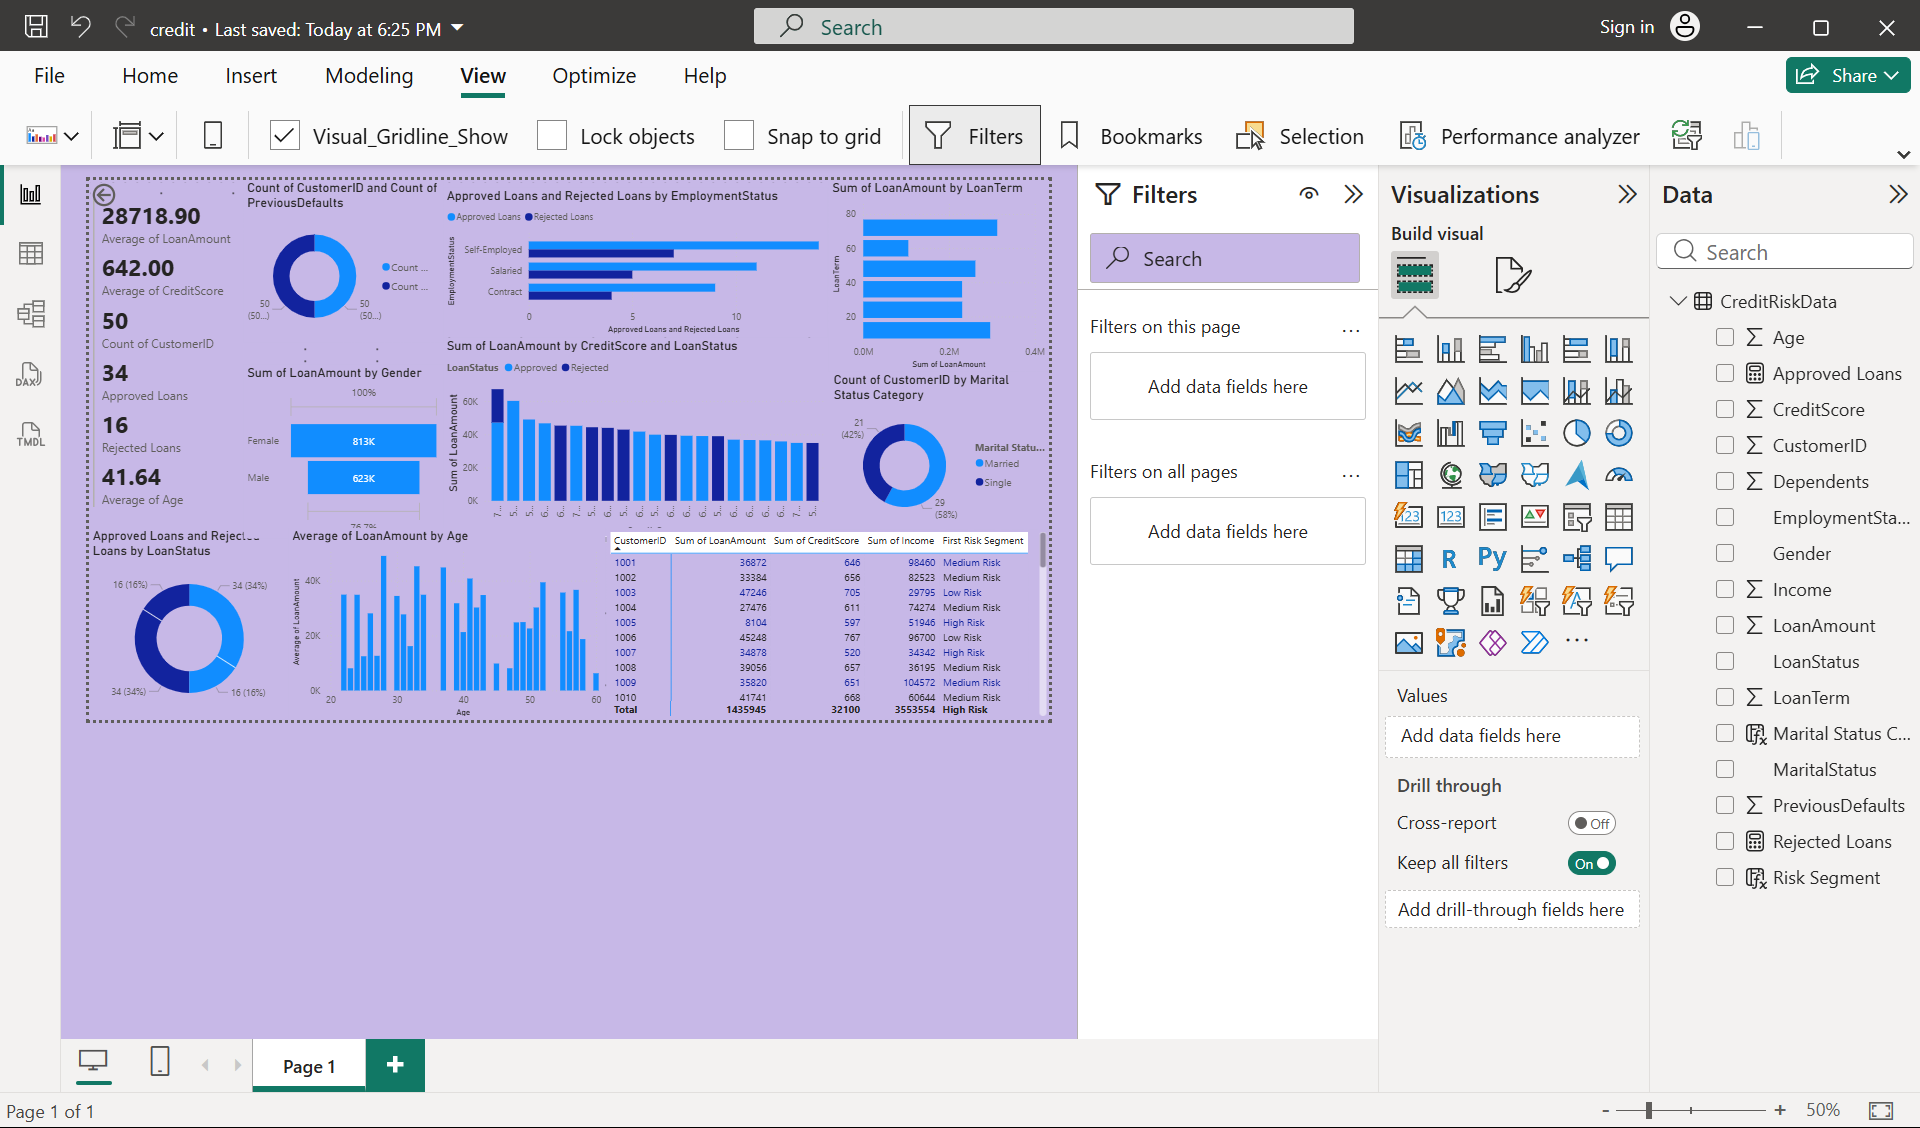

This screenshot's page, from the dashboard's own definition file:
{"tool":"powerbi","page":{"name":"Page 1","canvas":[1280,720],"ordinal":0},"visuals":[{"type":"multiRowCard","fields":{"Values":["Avg(CreditRiskData.LoanAmount)","Avg(CreditRiskData.CreditScore)","CountNonNull(CreditRiskData.CustomerID)","CreditRiskData.Approved Loans","CreditRiskData.Rejected Loans","Avg(CreditRiskData.Age)"]},"box":[0,19.2,205.4,432],"z":3},{"type":"actionButton","box":[0,0,100,40],"z":4},{"type":"donutChart","fields":{"Category":["CreditRiskData.LoanStatus"],"Y":["CreditRiskData.Approved Loans","CreditRiskData.Rejected Loans"]},"box":[0,464.6,266.9,255.4],"z":5},{"type":"clusteredBarChart","fields":{"Category":["CreditRiskData.EmploymentStatus"],"Series":["CreditRiskData.LoanStatus"],"Y":["CountNonNull(CreditRiskData.LoanStatus)"]},"box":[821.8,0,458.9,199.7],"z":6},{"type":"columnChart","fields":{"Category":["CreditRiskData.CreditScore"],"Y":["Sum(CreditRiskData.LoanAmount)"],"Series":["CreditRiskData.LoanStatus"]},"box":[821.8,199.7,458.9,278.4],"z":7},{"type":"funnel","fields":{"Category":["CreditRiskData.Gender"],"Y":["Sum(CreditRiskData.LoanAmount)"]},"box":[553,217,266.9,232.3],"z":8},{"type":"pivotTable","fields":{"Rows":["CreditRiskData.CustomerID"],"Values":["Sum(CreditRiskData.LoanAmount)","Sum(CreditRiskData.CreditScore)","Sum(CreditRiskData.Income)"]},"box":[819.8,464.6,460.8,255.4],"z":9},{"type":"donutChart","fields":{"Y":["CountNonNull(CreditRiskData.CustomerID)","CountNonNull(CreditRiskData.PreviousDefaults)"]},"box":[553,0,266.9,217],"z":10}]}

Visuals, with their boxes on the page's 1280x720 design canvas (x1, y1, x2, y2). These are canvas units, not pixel positions in the 1920x1128 screenshot, which may show the page scaled, cropped or inside an application window:
multiRowCard - Avg(CreditRiskData.LoanAmount) x Avg(CreditRiskData.CreditScore): bbox=(0, 19, 205, 451)
actionButton: bbox=(0, 0, 100, 40)
donutChart - CreditRiskData.LoanStatus x CreditRiskData.Approved Loans: bbox=(0, 465, 267, 720)
clusteredBarChart - CreditRiskData.EmploymentStatus x CreditRiskData.LoanStatus: bbox=(822, 0, 1281, 200)
columnChart - CreditRiskData.CreditScore x Sum(CreditRiskData.LoanAmount): bbox=(822, 200, 1281, 478)
funnel - CreditRiskData.Gender x Sum(CreditRiskData.LoanAmount): bbox=(553, 217, 820, 449)
pivotTable - CreditRiskData.CustomerID x Sum(CreditRiskData.LoanAmount): bbox=(820, 465, 1281, 720)
donutChart - CountNonNull(CreditRiskData.CustomerID) x CountNonNull(CreditRiskData.PreviousDefaults): bbox=(553, 0, 820, 217)
